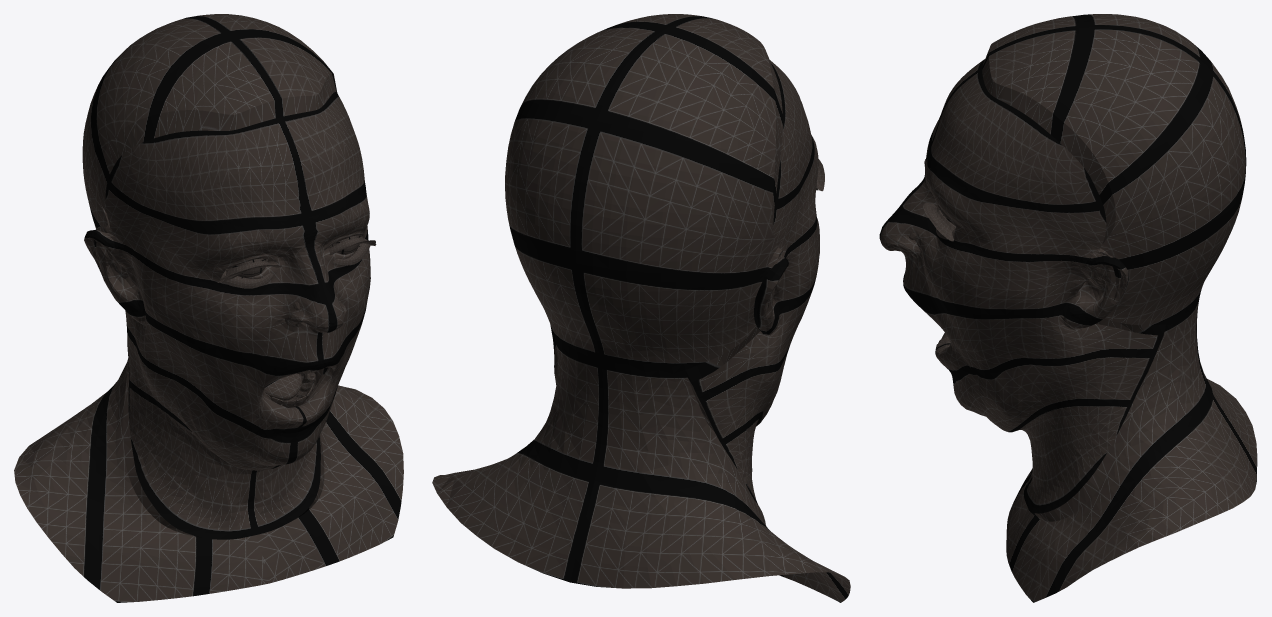
Rendered from ict_mediapipe_M_EyeLashes_textured.obj.
3 renders of one model, left to right at view 1: azimuth 30°, elevation 25°; view 2: azimuth 150°, elevation 25°; view 3: azimuth 270°, elevation 25°, orthographic. The views are drawn at different scales.
Bounding box in the file's own units: 1.02 × 1.38 × 0.9253.
Materials: 1 (1 with a texture image).
